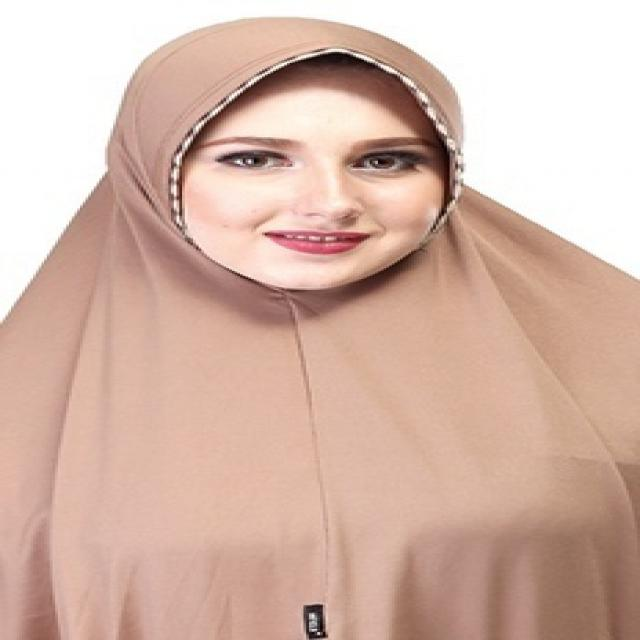head: (114, 11, 484, 304)
